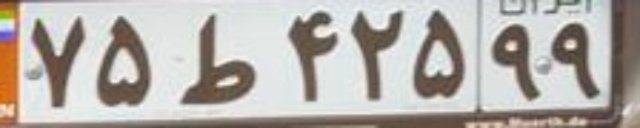2: (348, 9, 403, 102)
4: (285, 9, 339, 101)
5: (93, 13, 164, 106), (413, 8, 467, 99)
7: (27, 13, 85, 109)
9: (550, 22, 604, 97), (488, 24, 537, 101)
taa: (179, 13, 258, 105)
